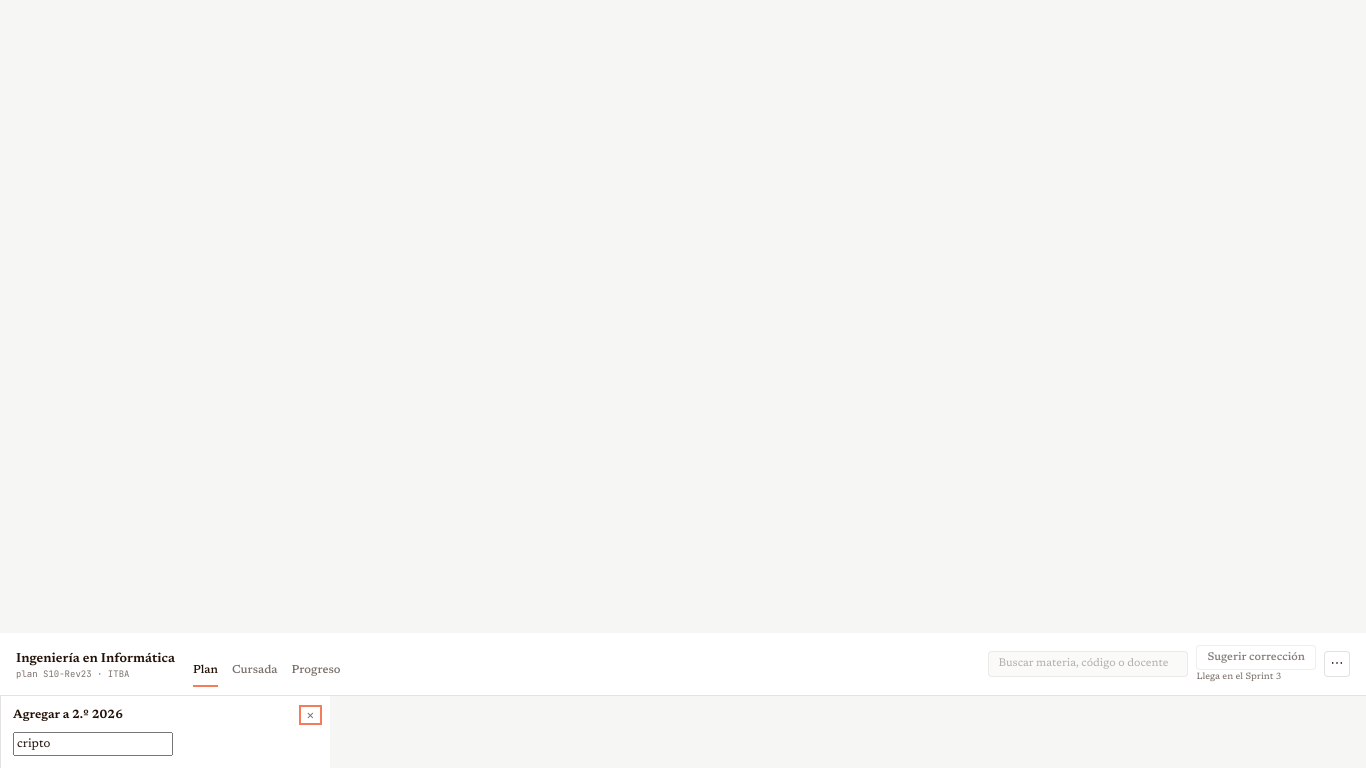
BarraSuperior › con un panel abierto detrás, un Escape cierra solo el menú
(page scrolled)
Expected: the dialog is shown, [0,696,330,767]
Click the button named "Más acciones": click(1337, 664) [1324,651,1350,677]
(page scrolled)
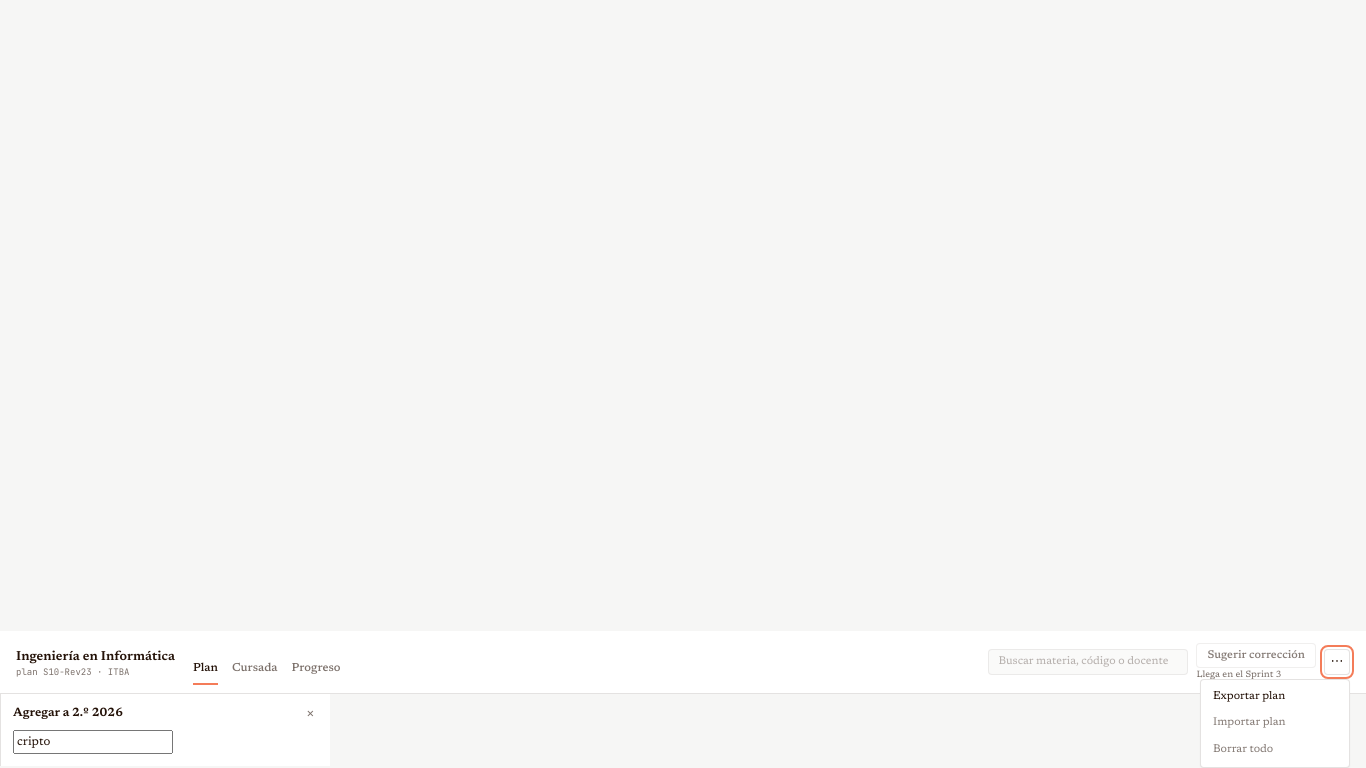
Expected: the menu is shown, [1200,679,1350,767]
Press Escape
(page scrolled)
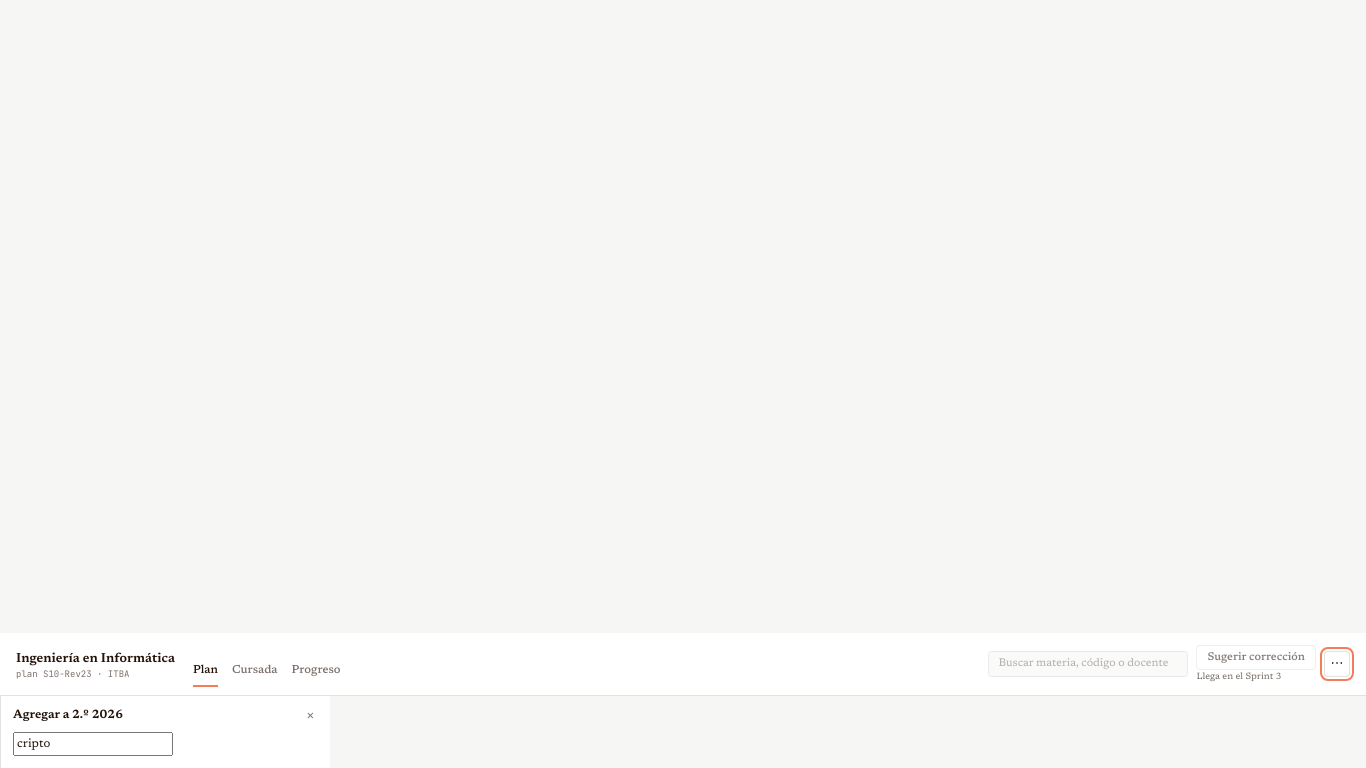
Expected: the dialog is shown, [0,696,330,767]
Expected: the menu is gone
Press Escape
(page scrolled)
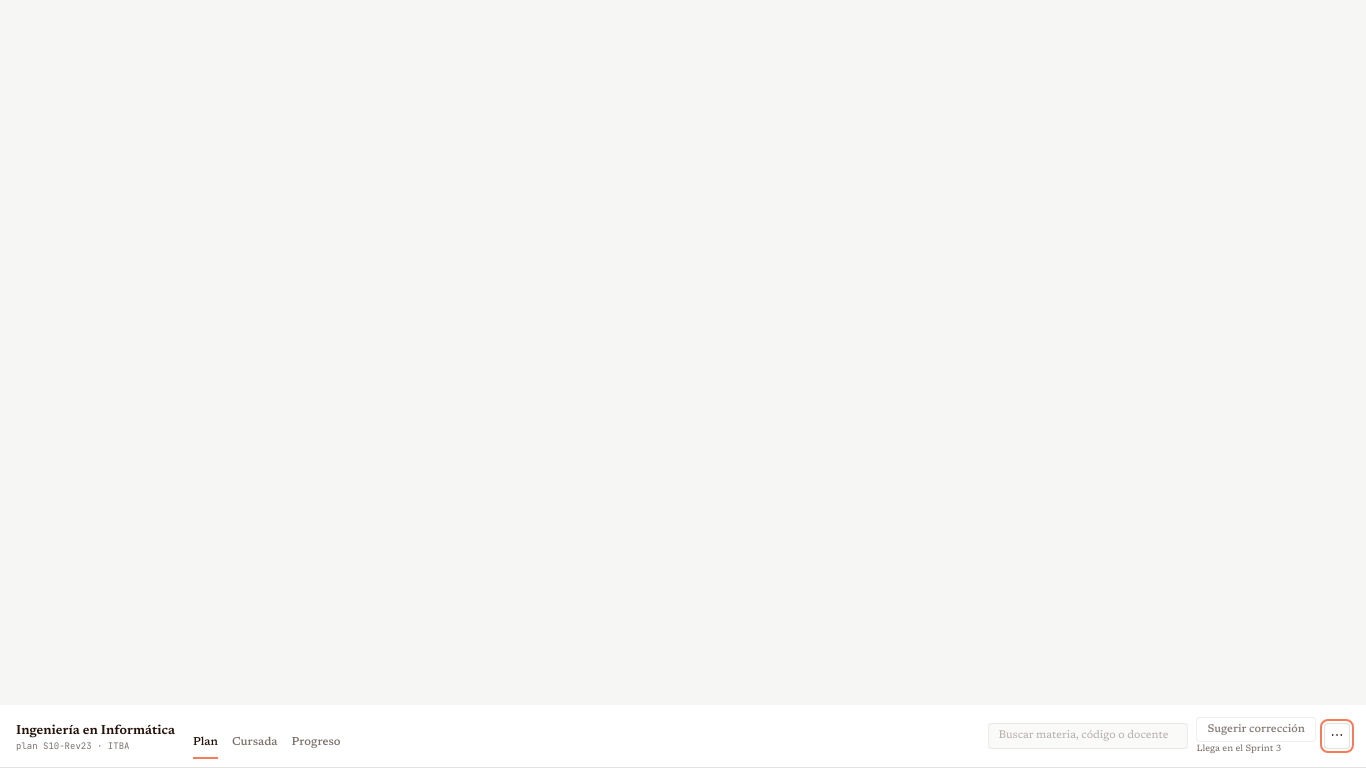
Expected: the dialog is gone
